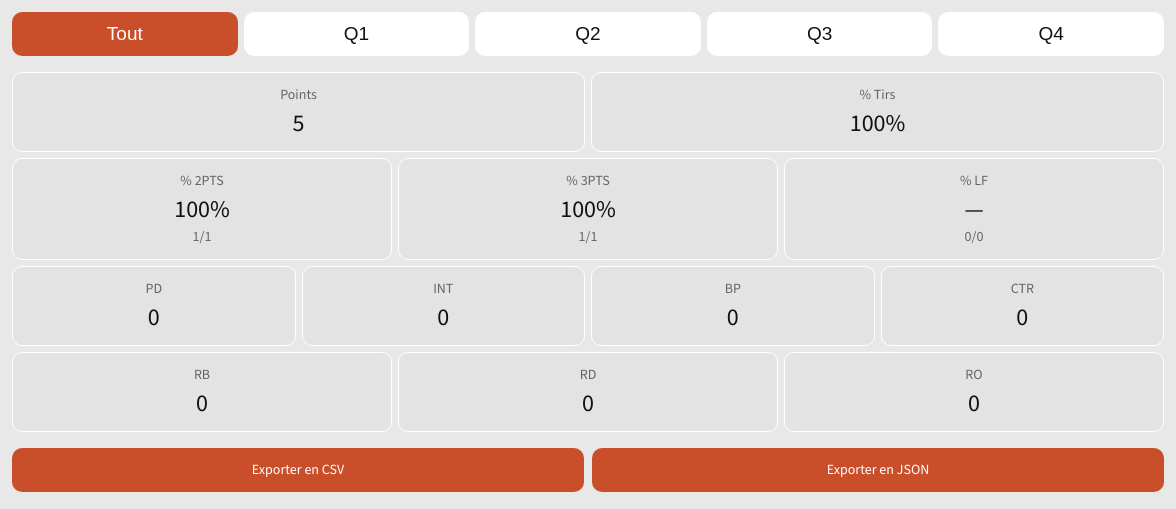
Test: MatchSheet — feuille de match › filtre par période
Step 1. Click the tab "Q1" → x=356, y=34, box [244, 12, 469, 56]
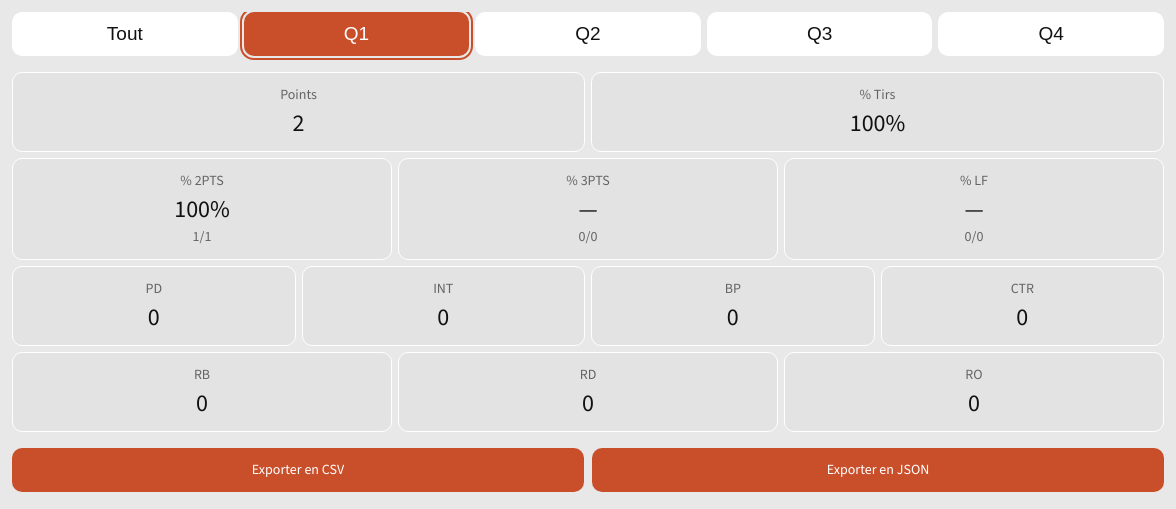
Expected: the text "Points" shows "2", [292, 107, 304, 139]
Step 2. Click the tab "Q2" → x=588, y=34, box [475, 12, 701, 56]
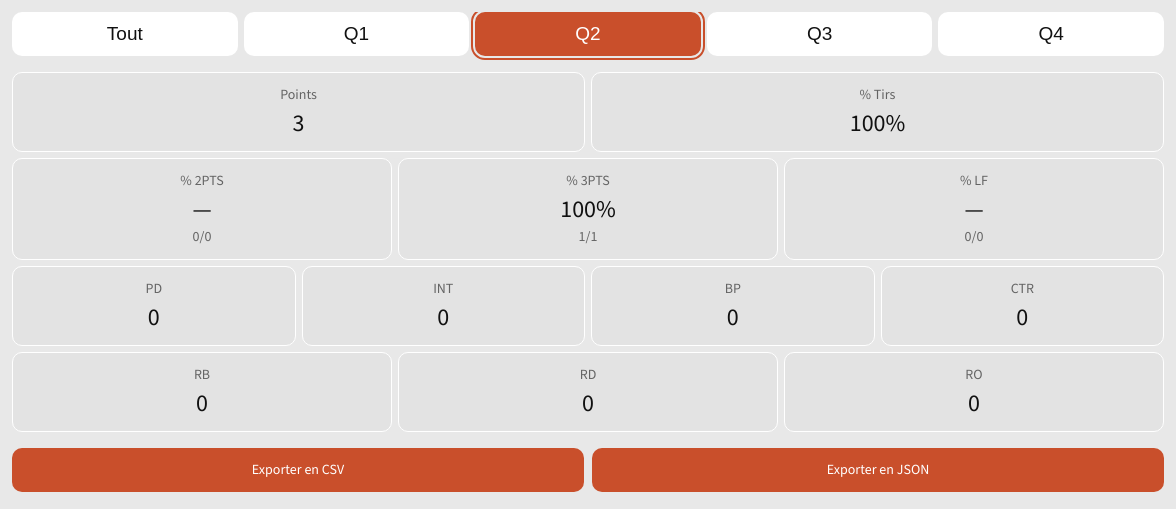
Expected: the text "Points" shows "3", [292, 107, 304, 139]
Step 3. Click the tab "Tout" → x=125, y=34, box [12, 12, 238, 56]
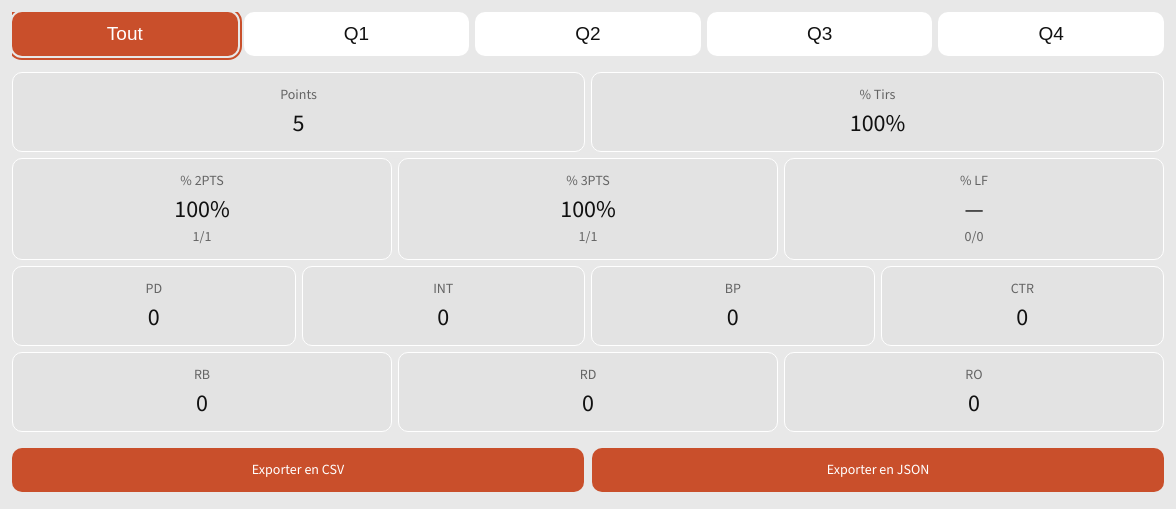
Expected: the text "Points" shows "5", [292, 107, 304, 139]
